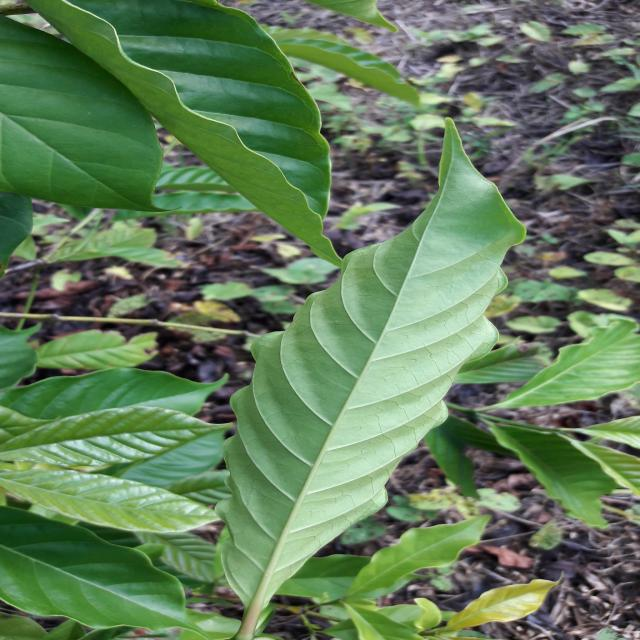Sanas: (216, 119, 529, 640)
